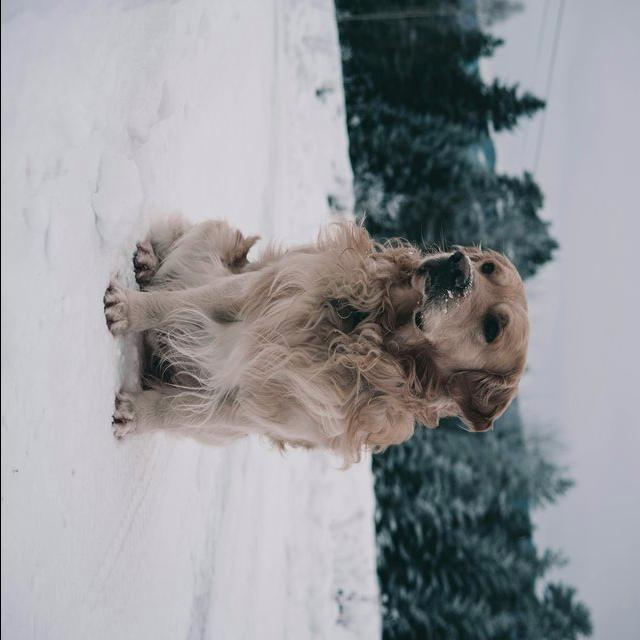retriever: (103, 212, 531, 468)
